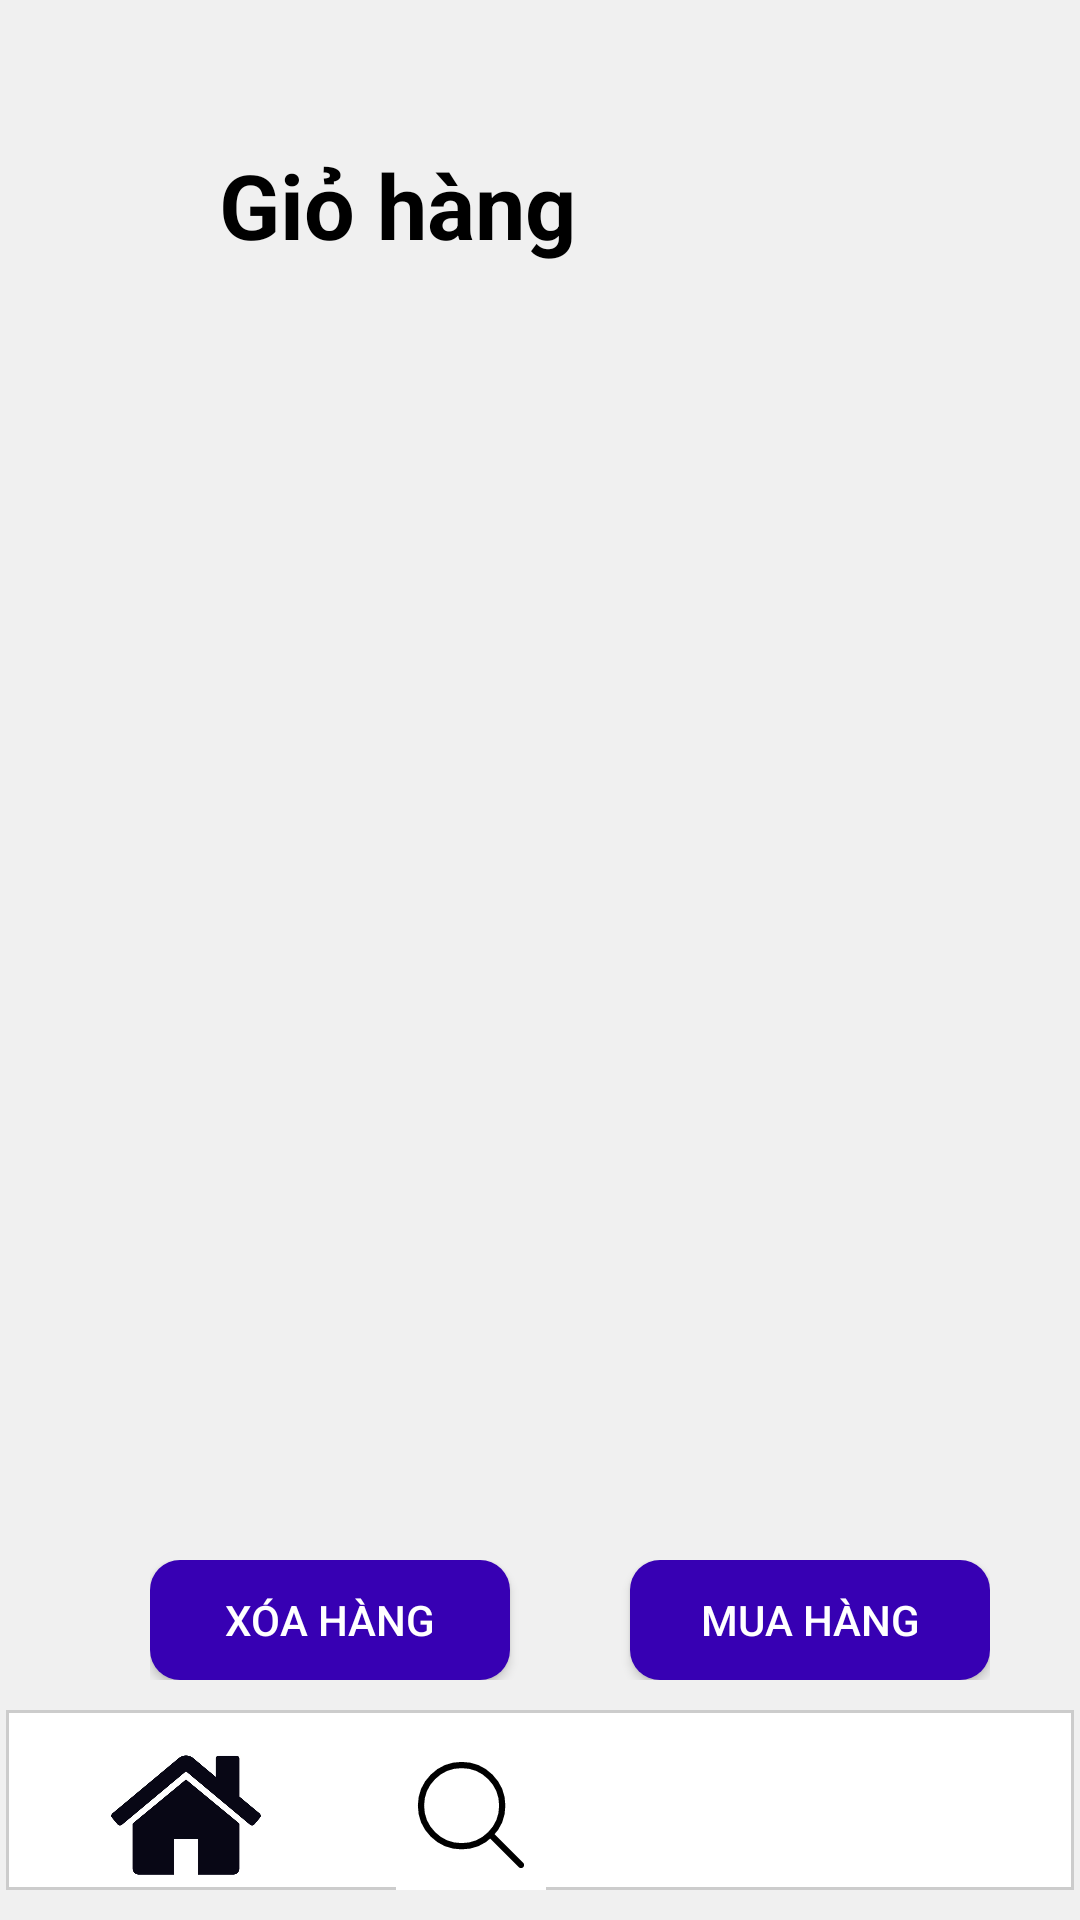

Screen size 1080*1920. Icon name, then its center in pixels as [x,y]:
home: [186,1815]
search: [471,1815]
